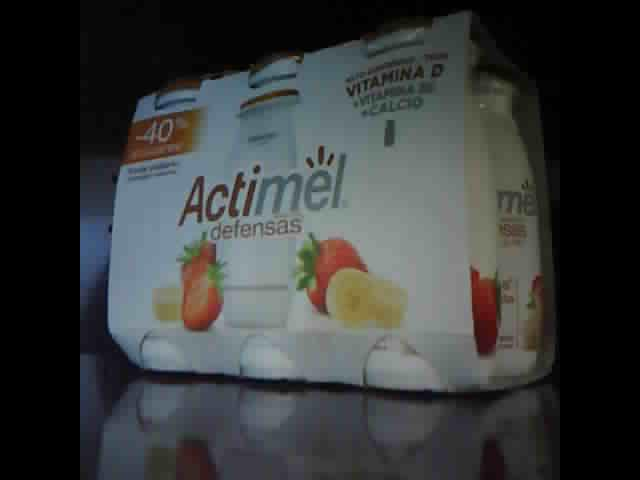actimel: (107, 12, 559, 395)
